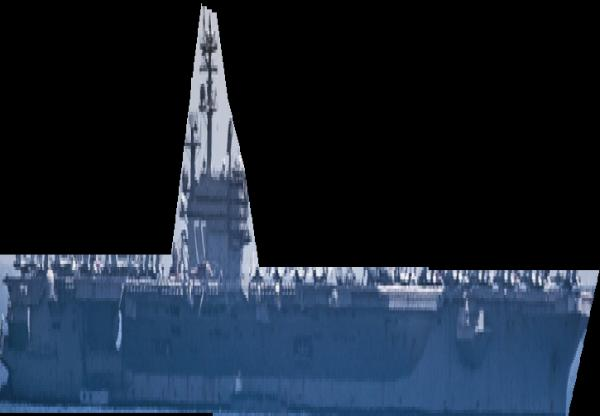Aircraft Carrier: (0, 2, 599, 416)
